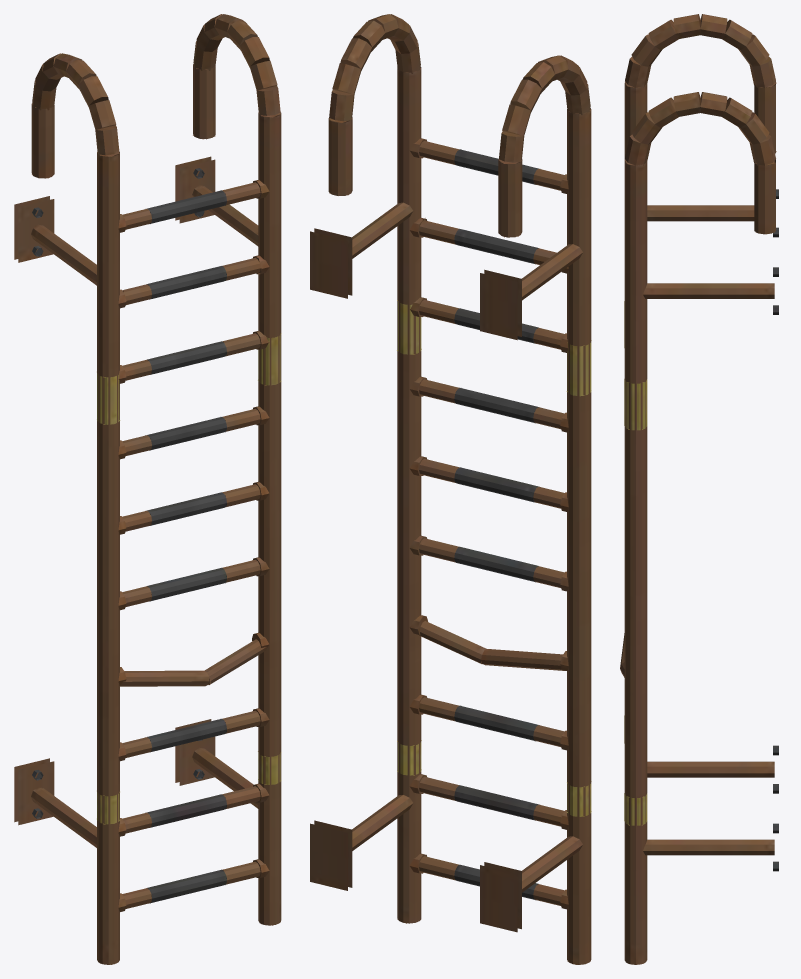
Rendered from Y22_sewer_ladder.glb.
3 renders of one model, left to right at view 1: azimuth 30°, elevation 25°; view 2: azimuth 150°, elevation 25°; view 3: azimuth 270°, elevation 25°, orthographic. The views are drawn at different scales.
Parts seen in each view (by area): view 1: Corroded upright; view 2: Corroded upright; view 3: Corroded upright.
Boxes of the visible parts, x1=… form: Corroded upright: x1=14, y1=14, x2=281, y2=964; Corroded upright: x1=310, y1=14, x2=591, y2=964; Corroded upright: x1=620, y1=14, x2=778, y2=964.
Bounding box in the file's own units: 0.7054 × 3 × 0.5226.
Materials: 3 (3 with a texture image).
